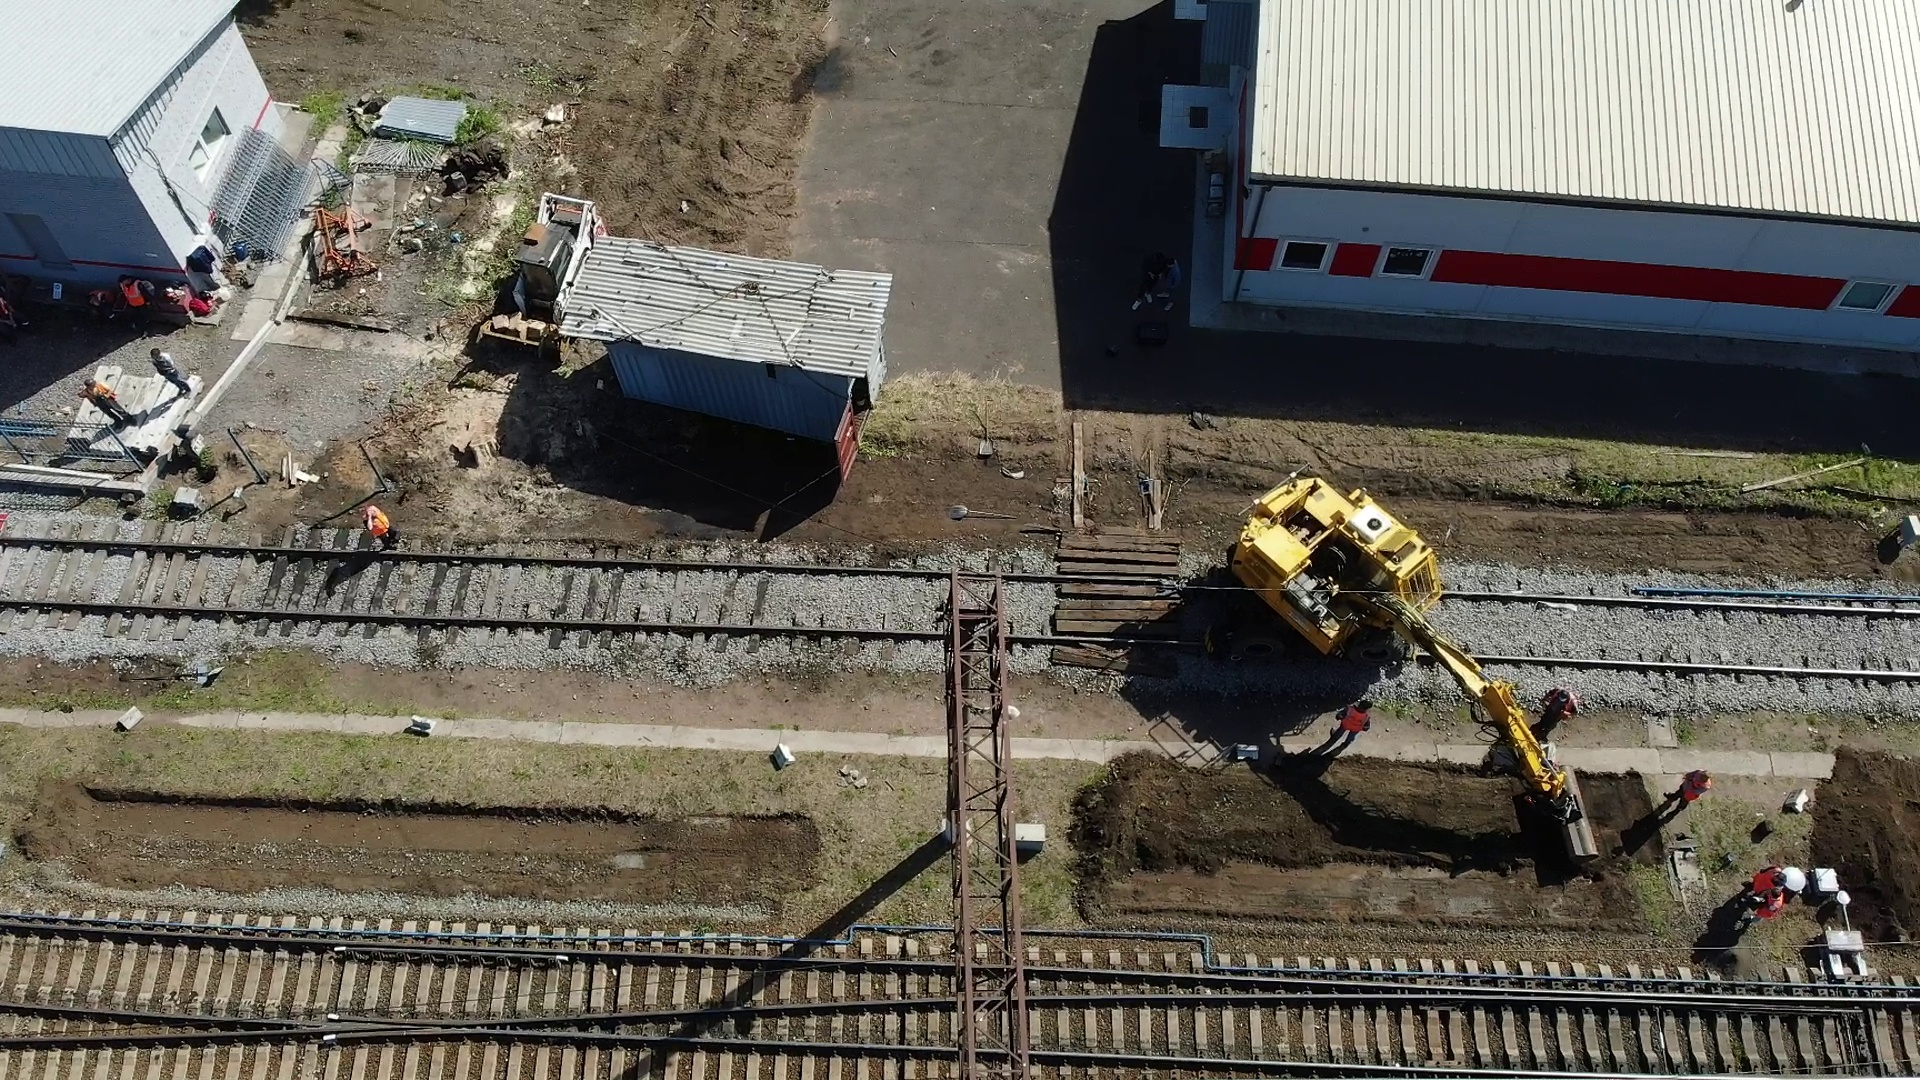kjtv: (1251, 473, 1501, 703)
